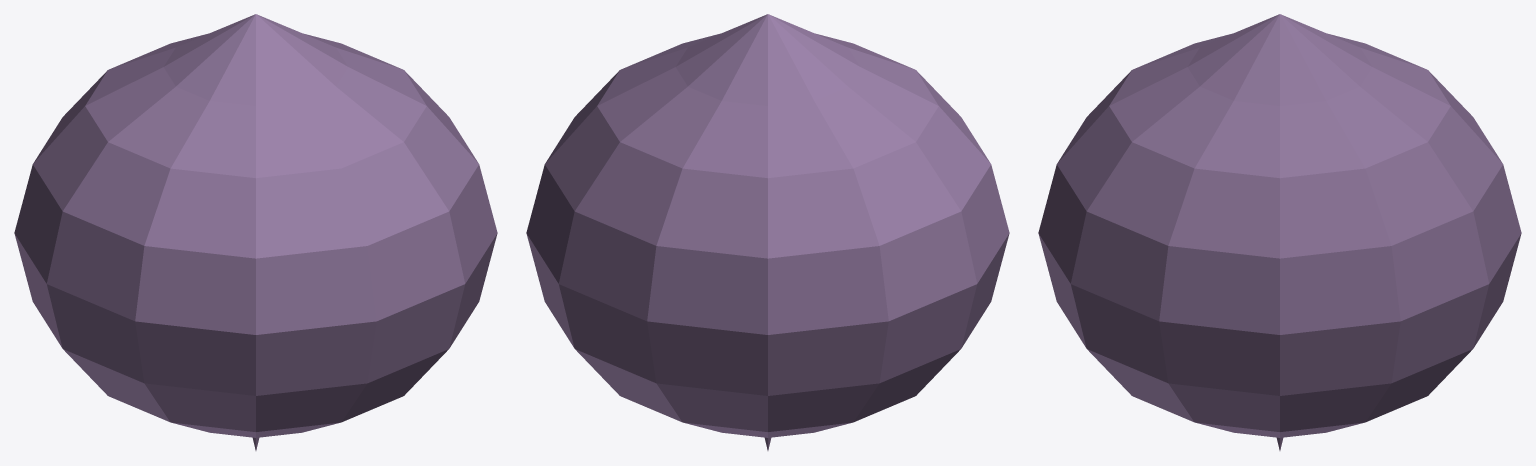
File: sphere_hair.gltf
The picture shows the model from 3 angles, left to right: view 1: azimuth 30°, elevation 25°; view 2: azimuth 150°, elevation 25°; view 3: azimuth 270°, elevation 25°; orthographic projection.
Visible parts, largest first — view 1: mesh; view 2: mesh; view 3: mesh.
Part boxes in pixels (x1,y1,x2,y2): mesh: (14, 14, 497, 450); mesh: (526, 14, 1009, 450); mesh: (1038, 14, 1521, 450).
Size of the model in its own units: 0.92 by 0.92 by 0.92.
